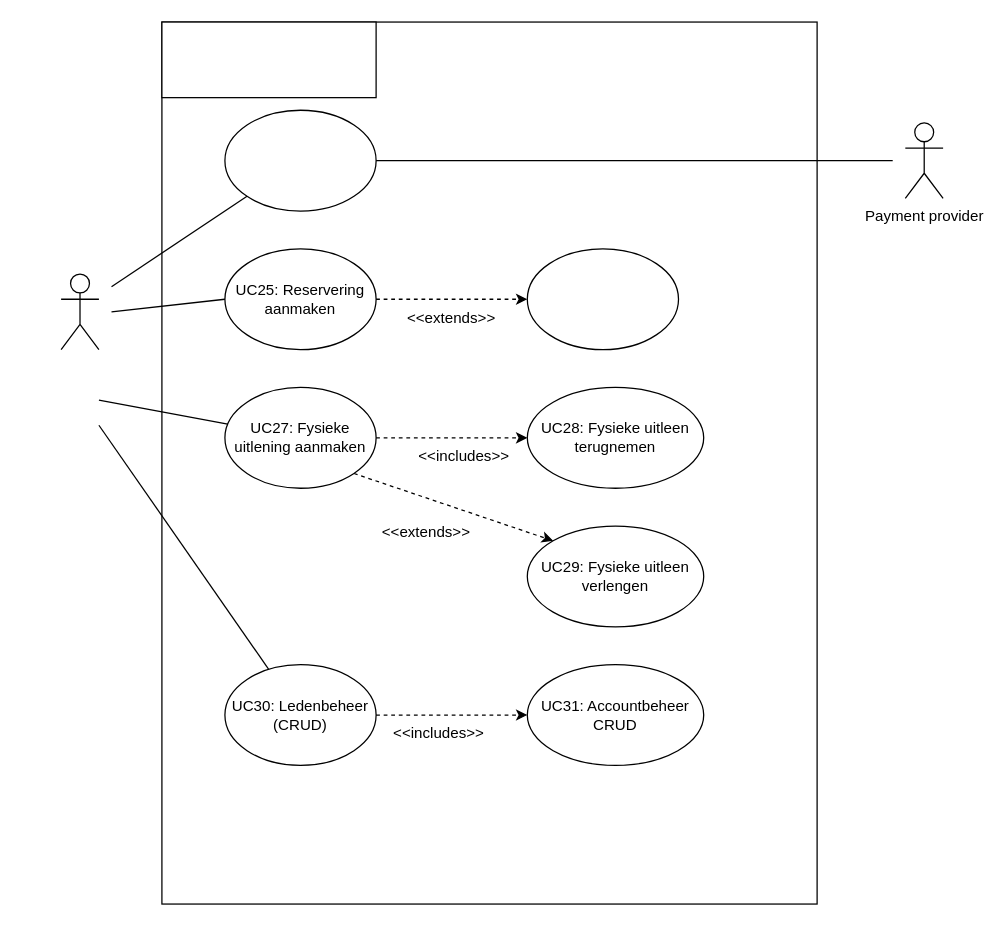
Image size: 1005x926. Some labels were removed from this diagram. The box of each missing label's shape, as (x1, y1, x2, y2) in pixels:
Baliemedewerker: (60, 273, 99, 350)
Bibliotheekbeheersysteem vanuit oogpunt baliemedewerker: (161, 21, 376, 98)
UC24: Boete afhandelen: (224, 109, 376, 211)
UC26: Reservering verwijderen: (526, 248, 679, 350)
